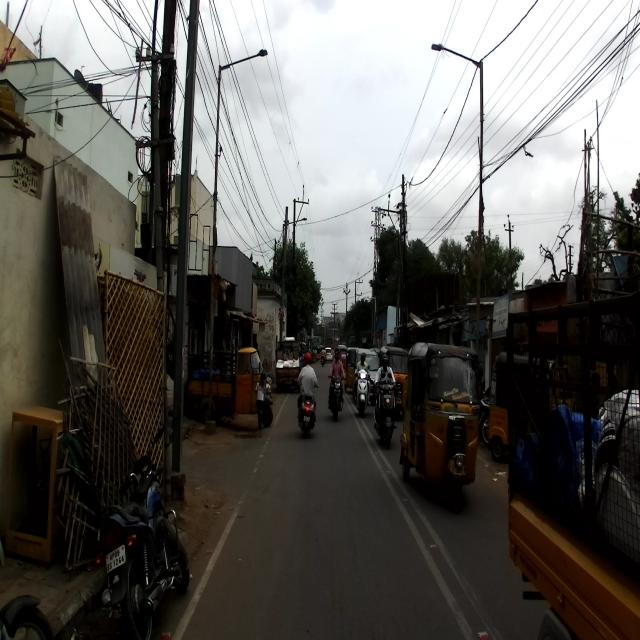autorickshaw: (398, 340, 483, 514), (186, 345, 273, 428)
motorcycle_Hero: (81, 420, 190, 640)
motorcycle_Honda: (328, 371, 344, 420)
scooter: (375, 372, 395, 444), (352, 364, 371, 416), (298, 384, 316, 436)
truck: (502, 286, 640, 640)
